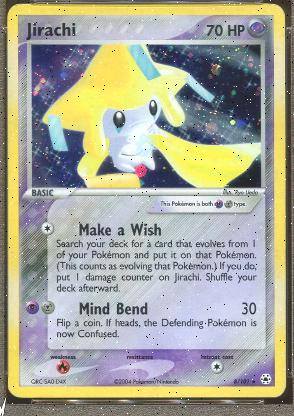Card: (6, 1, 286, 399)
Corner Wear: (265, 2, 286, 20), (13, 3, 23, 7)
